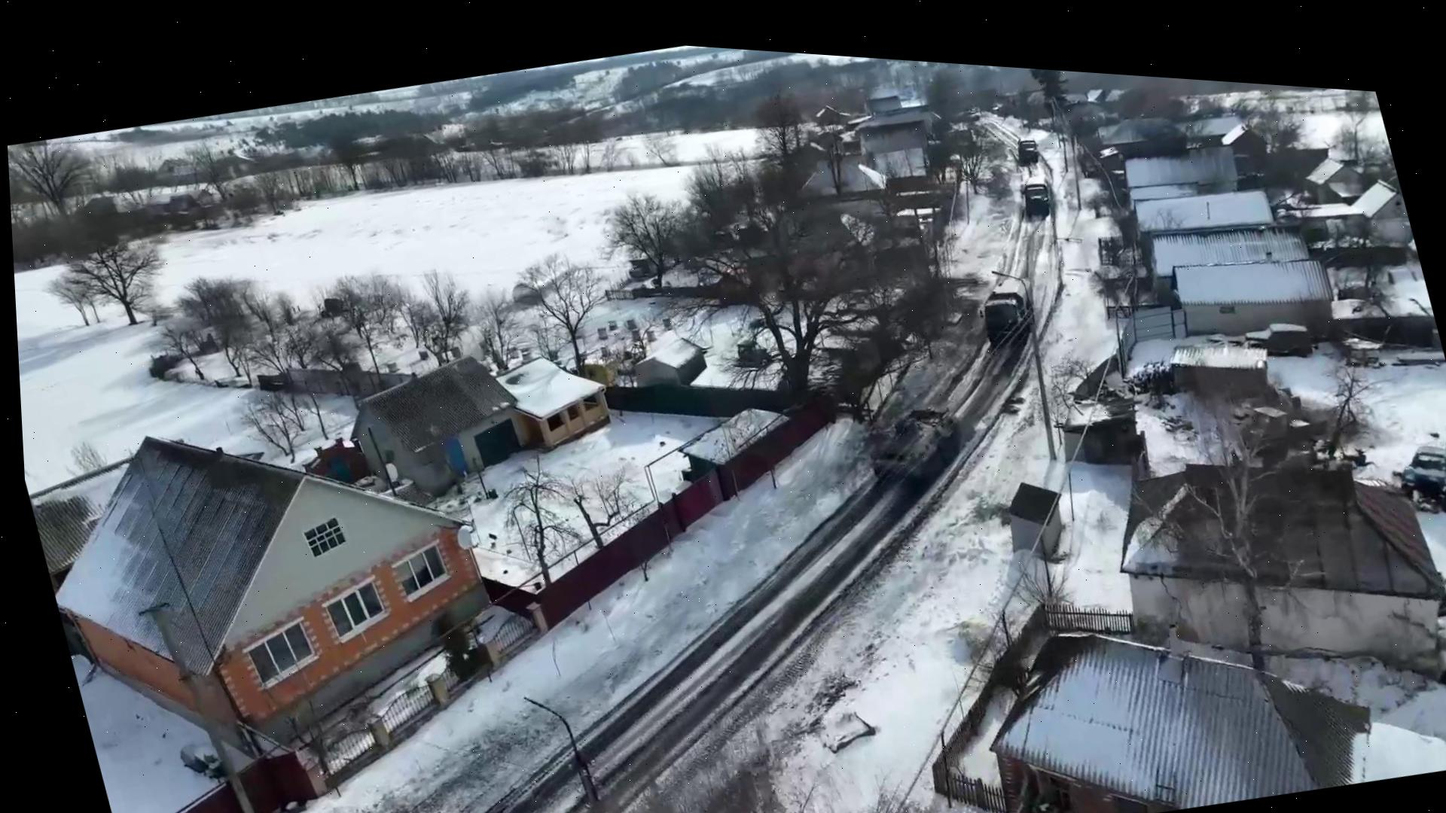tank: (855, 395, 976, 497)
truck: (971, 272, 1047, 351), (1009, 171, 1058, 223), (1012, 133, 1044, 171)
